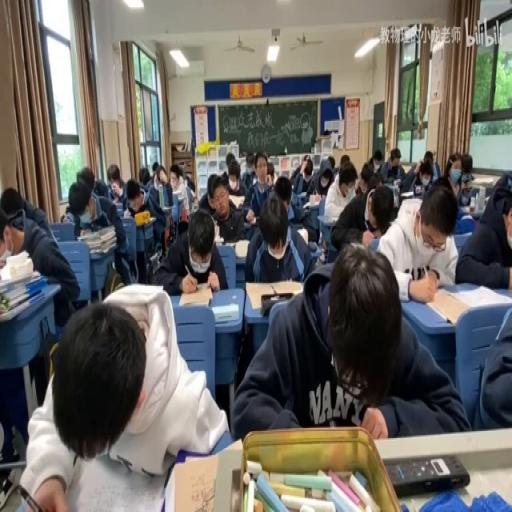calculator: (67, 448, 167, 512), (169, 452, 222, 512), (245, 280, 303, 309), (448, 283, 510, 310), (0, 292, 37, 322), (0, 268, 41, 292), (178, 284, 212, 308), (212, 300, 238, 322), (290, 193, 306, 219), (462, 186, 480, 206), (234, 238, 250, 258), (0, 247, 13, 269), (228, 193, 245, 209), (295, 225, 307, 243), (470, 175, 495, 183), (149, 250, 159, 268), (392, 182, 399, 206), (139, 214, 155, 224), (213, 223, 221, 242), (113, 200, 123, 214), (398, 191, 414, 199), (459, 203, 472, 212), (122, 209, 132, 219), (297, 190, 306, 198), (161, 204, 173, 210)
paper: (236, 243, 466, 440), (0, 189, 78, 332), (374, 180, 459, 296), (152, 206, 226, 296), (245, 194, 315, 288), (455, 174, 512, 288), (78, 174, 133, 282), (330, 174, 388, 253), (144, 165, 174, 243), (301, 156, 333, 206), (443, 151, 472, 206), (406, 155, 434, 196), (378, 148, 404, 186), (222, 155, 246, 195), (104, 162, 126, 201), (202, 172, 220, 216), (272, 174, 291, 206), (75, 165, 95, 195), (290, 152, 306, 185), (357, 161, 373, 192), (254, 152, 269, 184), (91, 178, 108, 199), (341, 174, 356, 196), (170, 166, 182, 190), (138, 165, 150, 188), (266, 160, 276, 184), (184, 176, 194, 194), (423, 148, 434, 163), (245, 154, 254, 172), (339, 154, 350, 168), (61, 209, 72, 222), (157, 170, 166, 184), (326, 155, 334, 169), (152, 161, 159, 176), (302, 160, 309, 170), (322, 128, 330, 134)
person: (384, 454, 470, 496), (0, 468, 21, 509), (248, 216, 258, 225)
